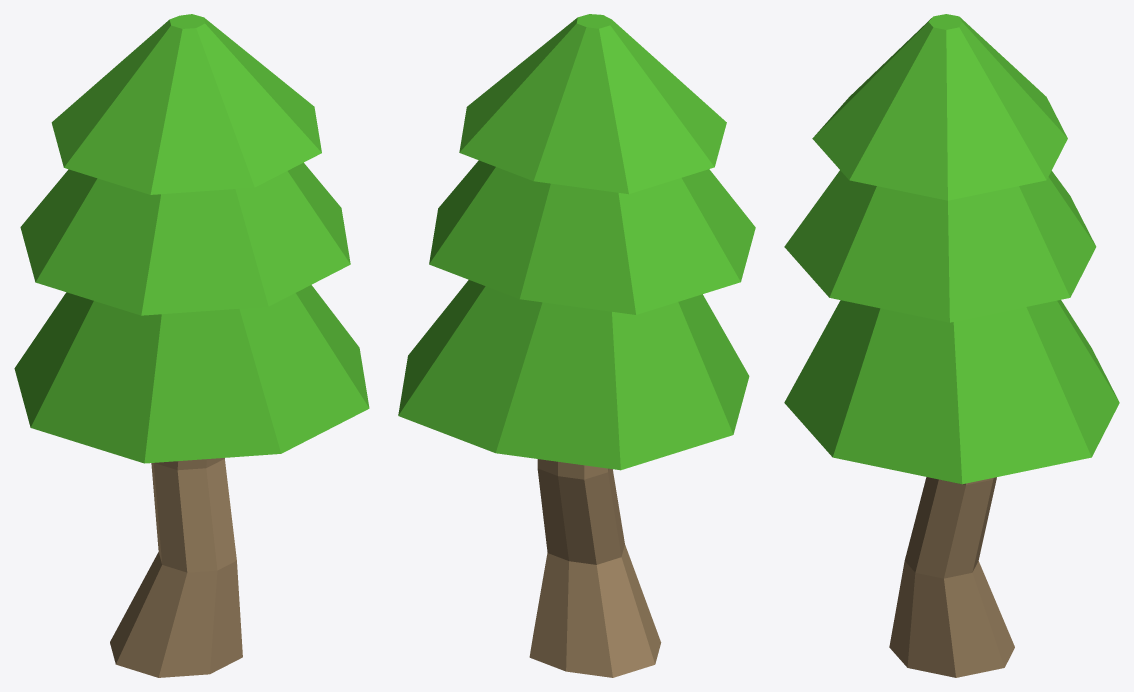
Rendered from Pohon.fbx.
3 renders of one model, left to right at view 1: azimuth 30°, elevation 25°; view 2: azimuth 150°, elevation 25°; view 3: azimuth 270°, elevation 25°, orthographic.
Parts seen in each view (by area): view 1: POHON; view 2: POHON; view 3: POHON.
Boxes of the visible parts, x1,y1,x2,y2 form: POHON: [14, 14, 369, 677]; POHON: [398, 14, 755, 677]; POHON: [784, 14, 1119, 677].
Size of the model in its own units: 188 by 343 by 166.
Materials: 1 (1 with a texture image).
